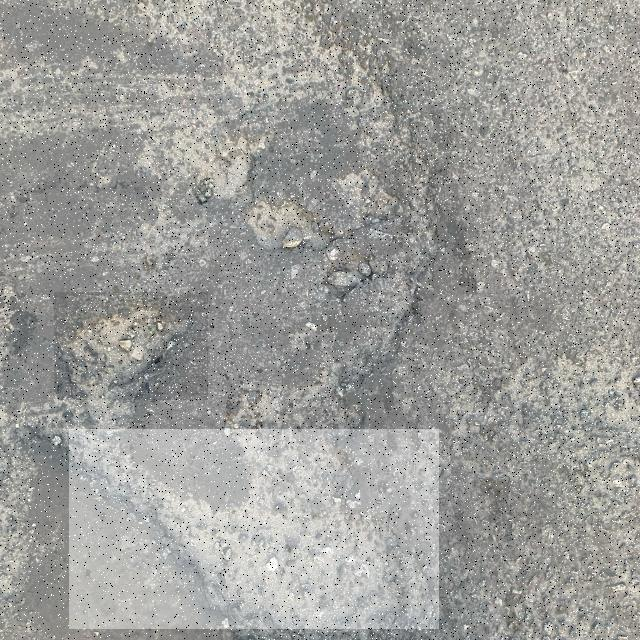damaged: (69, 429, 439, 629), (54, 292, 208, 400)
